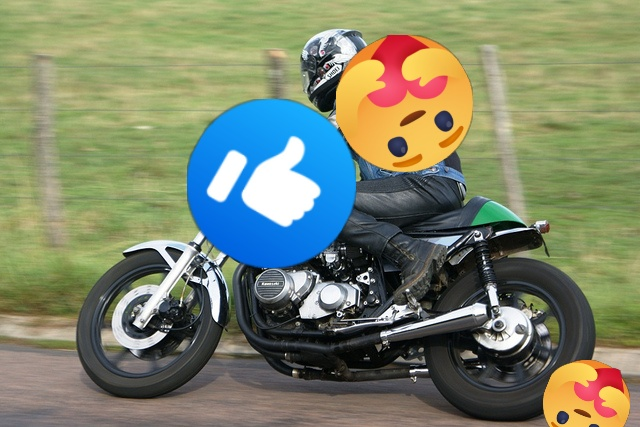care: (336, 35, 473, 172), (543, 360, 630, 427)
like: (187, 99, 356, 268)
